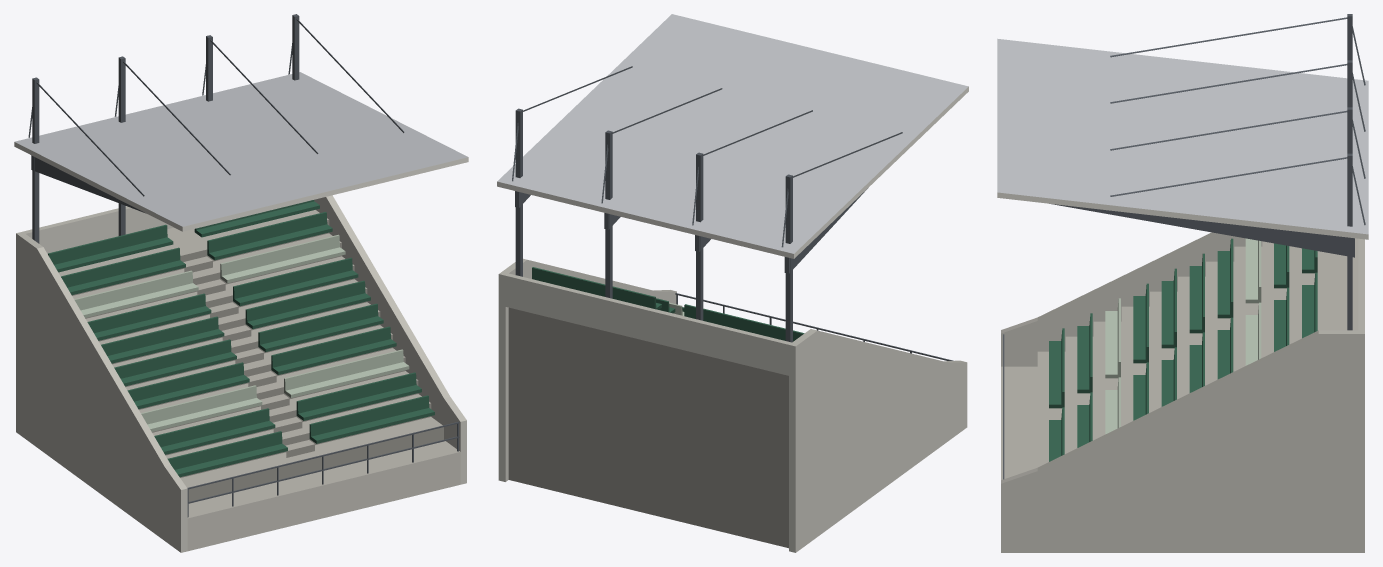
Rendered from stand.glb.
3 views of the same model, side by side, from view 1: azimuth 30°, elevation 25°; view 2: azimuth 150°, elevation 25°; view 3: azimuth 270°, elevation 25° (orthographic). The views are drawn at different scales.
Parts seen in each view (by area): view 1: grandstand_covered; view 2: grandstand_covered; view 3: grandstand_covered.
Boxes of the visible parts, left/top/right/bottom form: grandstand_covered: left=14, top=14, right=468, bottom=552; grandstand_covered: left=497, top=14, right=968, bottom=552; grandstand_covered: left=997, top=14, right=1368, bottom=552.
Bounding box in the file's own units: 11 × 13.05 × 11.22.
